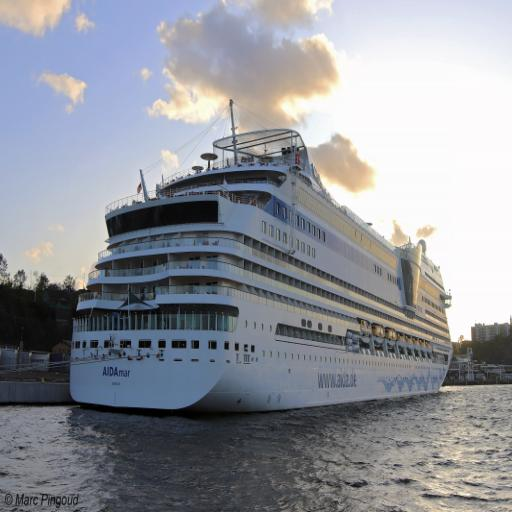cruises: (67, 99, 460, 424)
